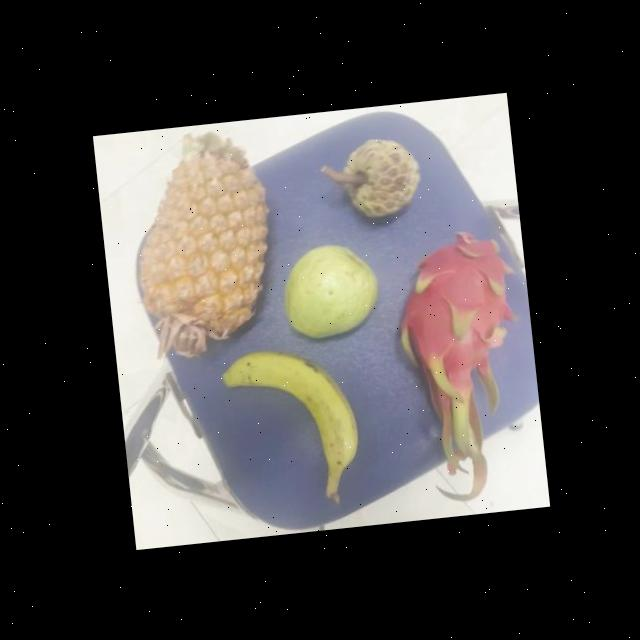Sakya fruit: (333, 134, 428, 222)
banana: (221, 344, 366, 480)
guava: (278, 240, 386, 338)
pitaya: (388, 228, 524, 404)
